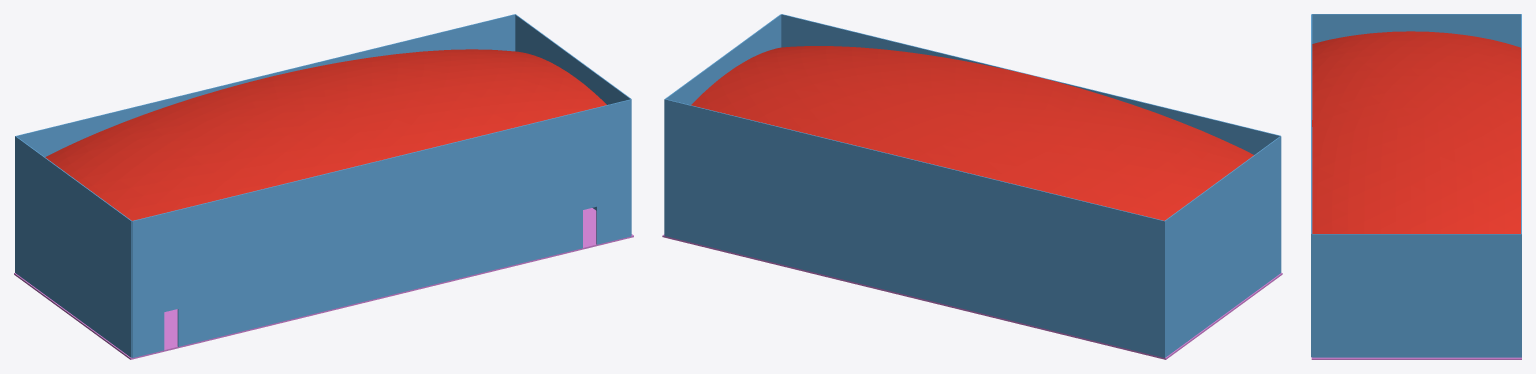
The model's file is Exposicion_Pasillo.fbx.
The picture shows the model from 3 angles, left to right: view 1: azimuth 30°, elevation 25°; view 2: azimuth 150°, elevation 25°; view 3: azimuth 270°, elevation 25°; orthographic projection. The views are drawn at different scales.
Visible parts, largest first — view 1: m_paredPasillo_04, m_techoPasillo, m_paredPasillo_02, m_paredPasillo_03, m_paredPasillo_01, m_sueloPasillo; view 2: m_paredPasillo_03, m_techoPasillo, m_paredPasillo_02, m_paredPasillo_04, m_paredPasillo_01, m_sueloPasillo; view 3: m_techoPasillo, m_paredPasillo_01, m_paredPasillo_02, m_paredPasillo_04, m_sueloPasillo, m_paredPasillo_03.
Part boxes in pixels (box(x1,y1,x2,y2)): m_paredPasillo_04: box(132, 99, 631, 357); m_techoPasillo: box(45, 49, 606, 220); m_paredPasillo_02: box(15, 136, 132, 357); m_paredPasillo_03: box(16, 14, 515, 156); m_paredPasillo_01: box(515, 14, 631, 235); m_sueloPasillo: box(14, 208, 633, 359); m_paredPasillo_03: box(665, 99, 1163, 357); m_techoPasillo: box(691, 46, 1253, 220); m_paredPasillo_02: box(1164, 136, 1281, 357); m_paredPasillo_04: box(781, 14, 1280, 154); m_paredPasillo_01: box(664, 14, 781, 235); m_sueloPasillo: box(662, 234, 1282, 359); m_techoPasillo: box(1312, 31, 1520, 233); m_paredPasillo_01: box(1312, 234, 1521, 357); m_paredPasillo_02: box(1312, 14, 1521, 47); m_paredPasillo_04: box(1311, 14, 1312, 357); m_sueloPasillo: box(1311, 357, 1521, 359); m_paredPasillo_03: box(1521, 14, 1521, 233).
Size of the model in its own units: 9822 by 2763 by 3947.
